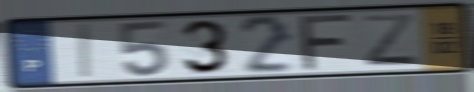2: (236, 12, 299, 78)
3: (179, 17, 233, 77)
5: (116, 19, 172, 79)
F: (298, 12, 358, 73)
I: (78, 22, 95, 81)
Z: (360, 12, 422, 68)
